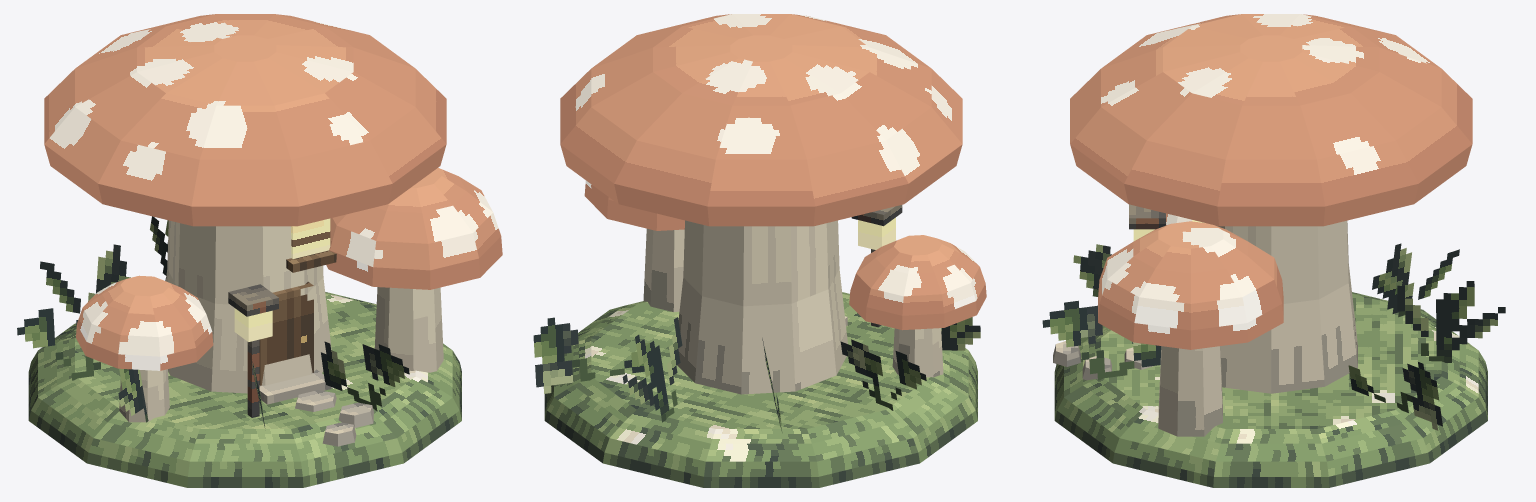
Rendered from toadstool_lamp.glb.
3 views of the same model, side by side, from view 1: azimuth 30°, elevation 25°; view 2: azimuth 150°, elevation 25°; view 3: azimuth 270°, elevation 25° (orthographic).
Parts seen in each view (by area): view 1: glow_cap, base, stem, glow_cap1, glow_cap2, stem1, door, grass, grass3, stem2, grass4, glow_window (+10 smaller); view 2: glow_cap, base, stem, glow_cap2, stem1, grass1, grass2, grass4, stem2, glow_cap1, grass5, glow_lantern (+1 smaller); view 3: glow_cap, base, glow_cap1, stem, stem1, grass2, grass, grass1, grass3, grass6, lanterncap, pebble2.
Part boxes in pixels (x1,y1,x2,y2): glow_cap: [44, 14, 446, 226]; base: [28, 292, 461, 487]; stem: [166, 220, 331, 393]; glow_cap1: [326, 168, 502, 289]; glow_cap2: [76, 275, 213, 370]; stem1: [374, 287, 443, 372]; door: [259, 281, 313, 385]; grass: [321, 341, 409, 410]; grass3: [40, 244, 130, 313]; stem2: [119, 369, 169, 422]; grass4: [17, 308, 100, 380]; glow_window: [291, 218, 330, 258]; glow_cap: [560, 14, 962, 226]; base: [544, 292, 977, 487]; stem: [677, 220, 847, 394]; glow_cap2: [849, 235, 986, 330]; stem1: [643, 228, 684, 312]; grass1: [533, 317, 649, 393]; grass2: [622, 317, 682, 422]; grass4: [840, 339, 926, 410]; stem2: [892, 328, 943, 377]; glow_cap1: [584, 180, 684, 230]; grass5: [941, 317, 980, 350]; glow_lantern: [858, 217, 895, 249]; glow_cap: [1070, 14, 1472, 226]; base: [1054, 292, 1487, 487]; glow_cap1: [1098, 221, 1283, 349]; stem: [1216, 220, 1357, 393]; stem1: [1158, 346, 1222, 436]; grass2: [1397, 281, 1505, 362]; grass: [1042, 300, 1161, 380]; grass1: [1348, 362, 1442, 430]; grass3: [1372, 243, 1459, 317]; grass6: [1073, 244, 1111, 296]; lanterncap: [1129, 204, 1165, 229]; pebble2: [1053, 341, 1080, 366].
Size of the model in its own units: 0.9451 by 0.775 by 0.9723.
Materials: 4 (4 with a texture image).
